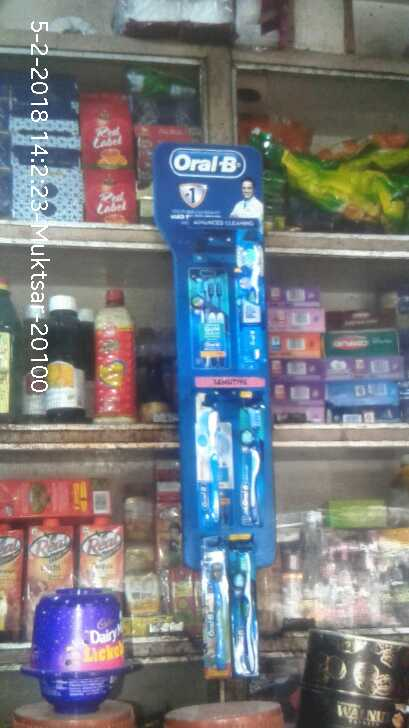oralb: (230, 545, 270, 680), (236, 242, 269, 373), (240, 401, 271, 530), (202, 550, 232, 673), (199, 404, 225, 536)
